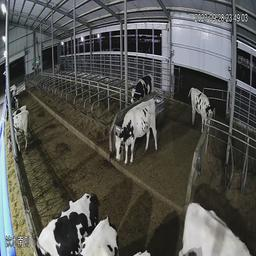cow: (35, 189, 99, 252), (181, 198, 249, 252), (114, 101, 157, 167), (85, 209, 120, 253), (187, 81, 211, 133), (7, 112, 34, 155), (129, 72, 154, 101), (3, 86, 22, 110)
